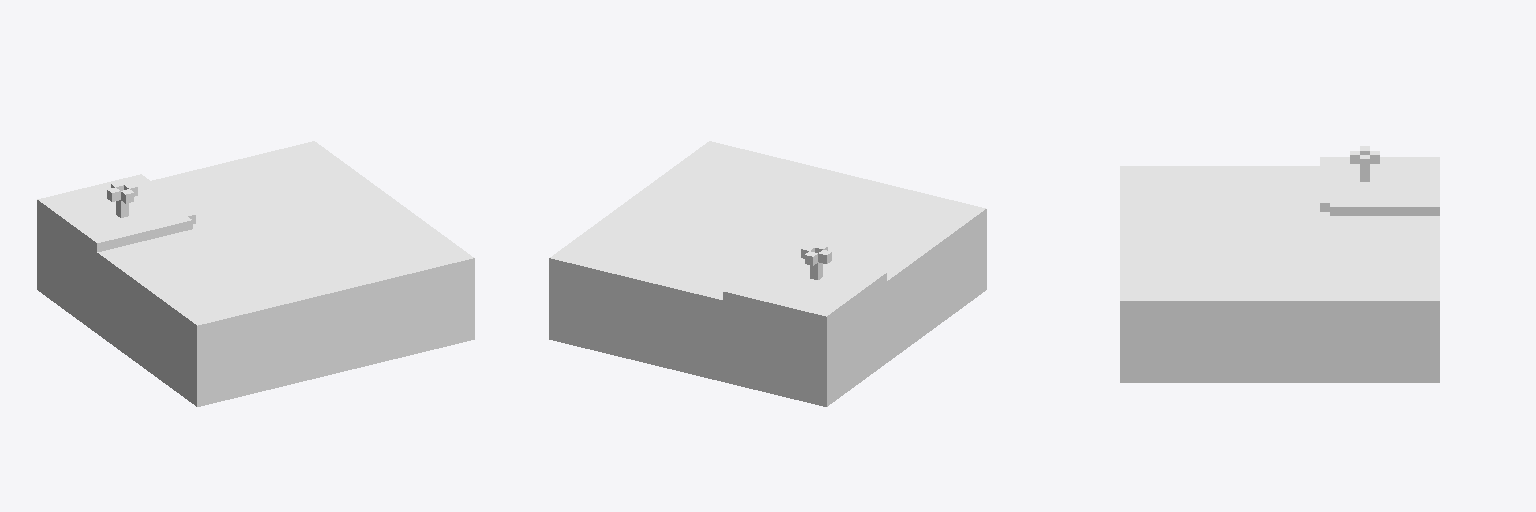
Rendered from Overworld_Ocean_06.obj.
3 views of the same model, side by side, from view 1: azimuth 30°, elevation 25°; view 2: azimuth 150°, elevation 25°; view 3: azimuth 270°, elevation 25° (orthographic).
Parts seen in each view (by area): view 1: object 1; view 2: object 1; view 3: object 1.
Boxes of the visible parts, x1=… form: object 1: x1=37, y1=141, x2=474, y2=406; object 1: x1=549, y1=141, x2=986, y2=406; object 1: x1=1120, y1=146, x2=1439, y2=382.
Size of the model in its own units: 3.2 by 1.3 by 3.2.